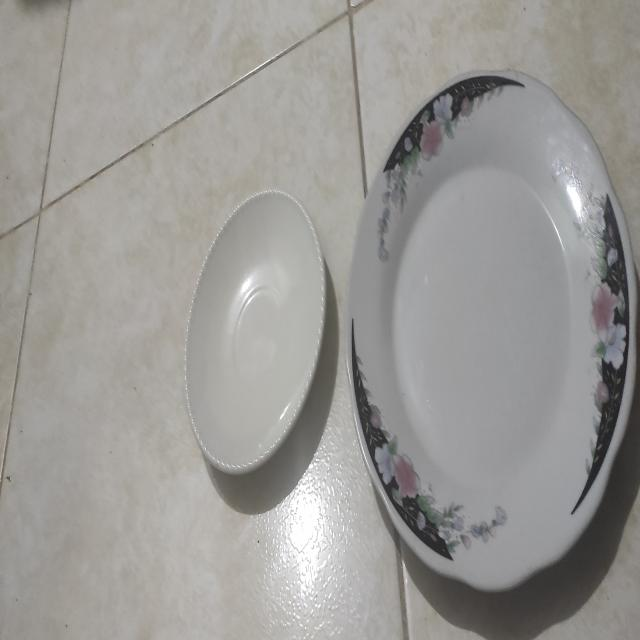non-organic waste: (340, 59, 640, 620), (172, 182, 334, 490)
